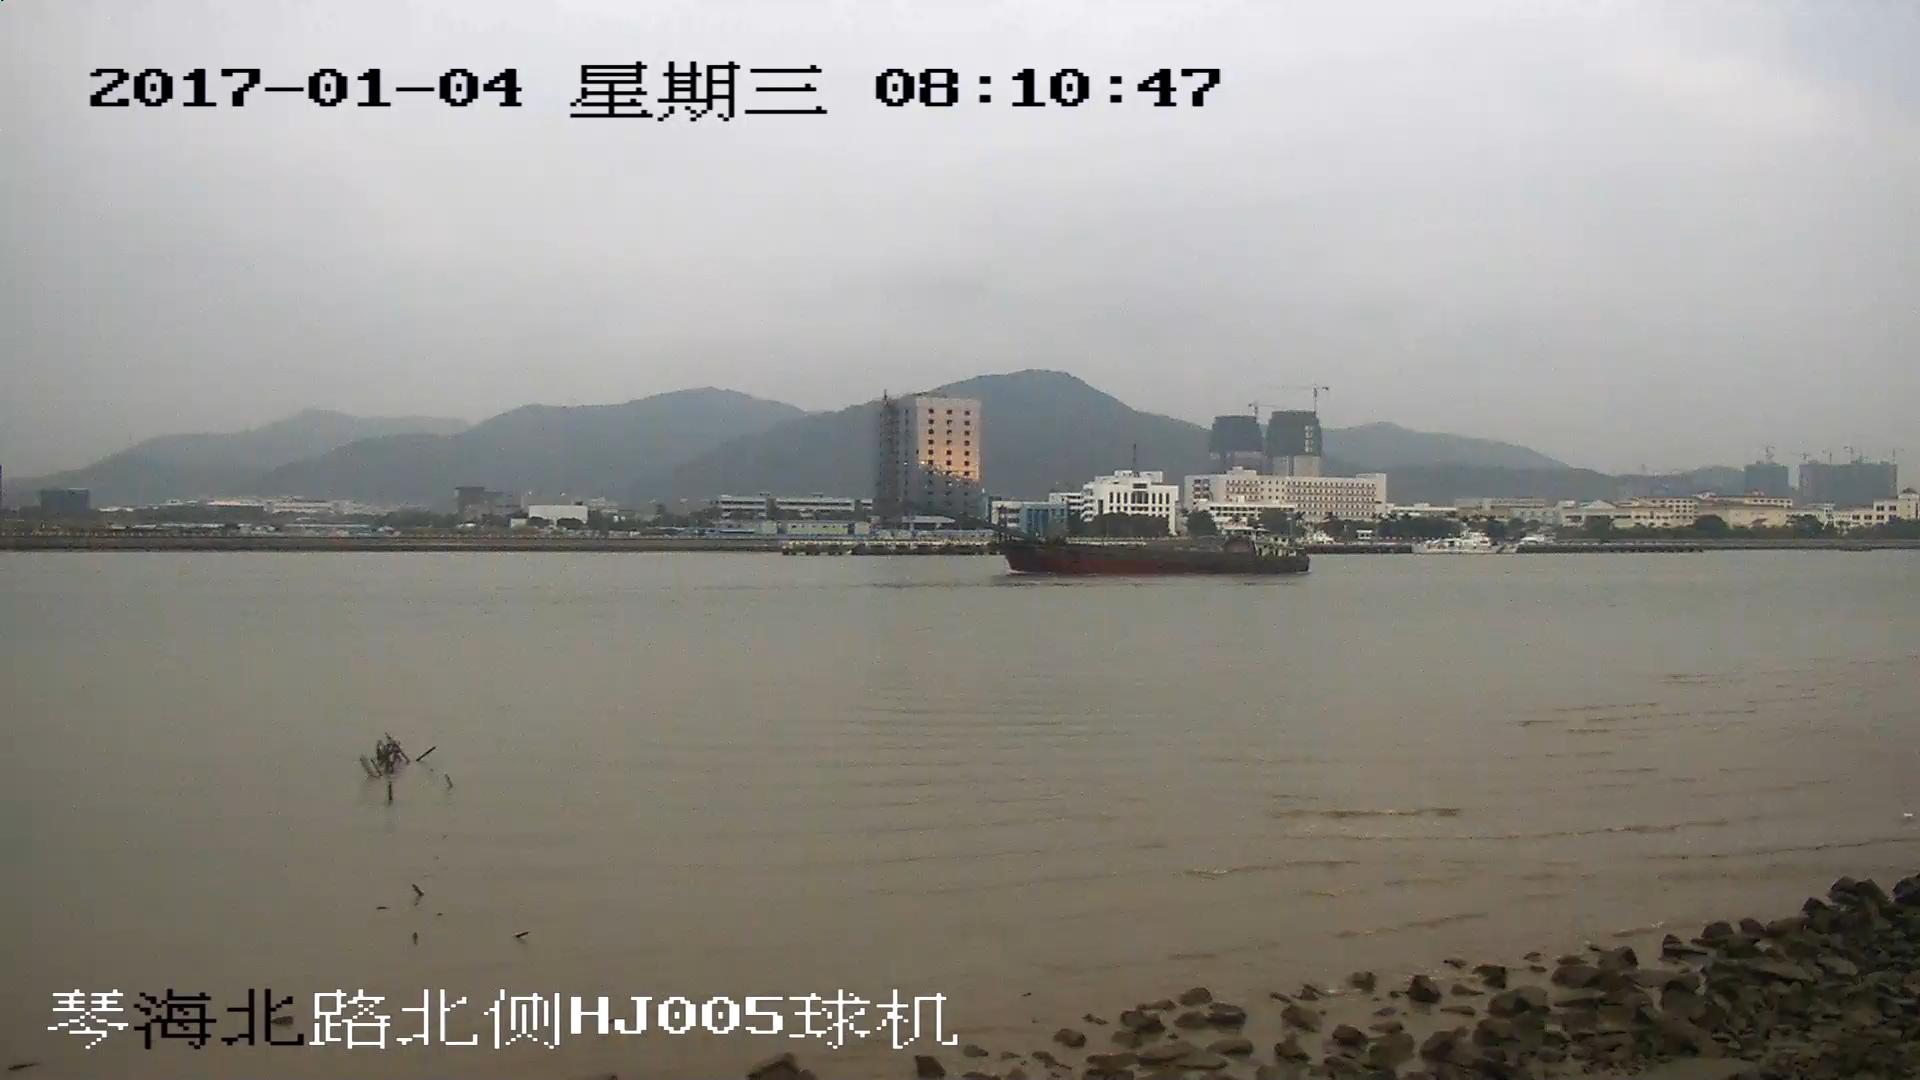Ship: (922, 508, 1309, 579)
